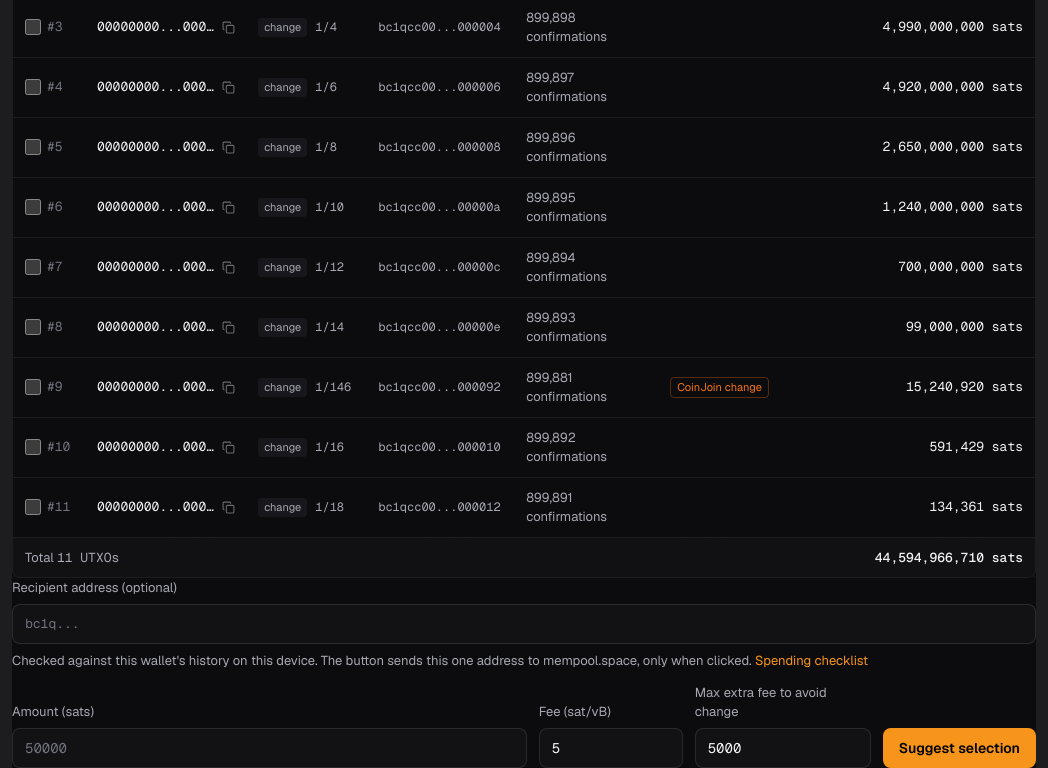
coin control URL state › drops the selection when another wallet is loaded
The width and height of the screenshot is (1048, 768).
(page scrolled)
Click the checkbox labelled "#10": (33, 447) left=25, top=439, right=41, bottom=455
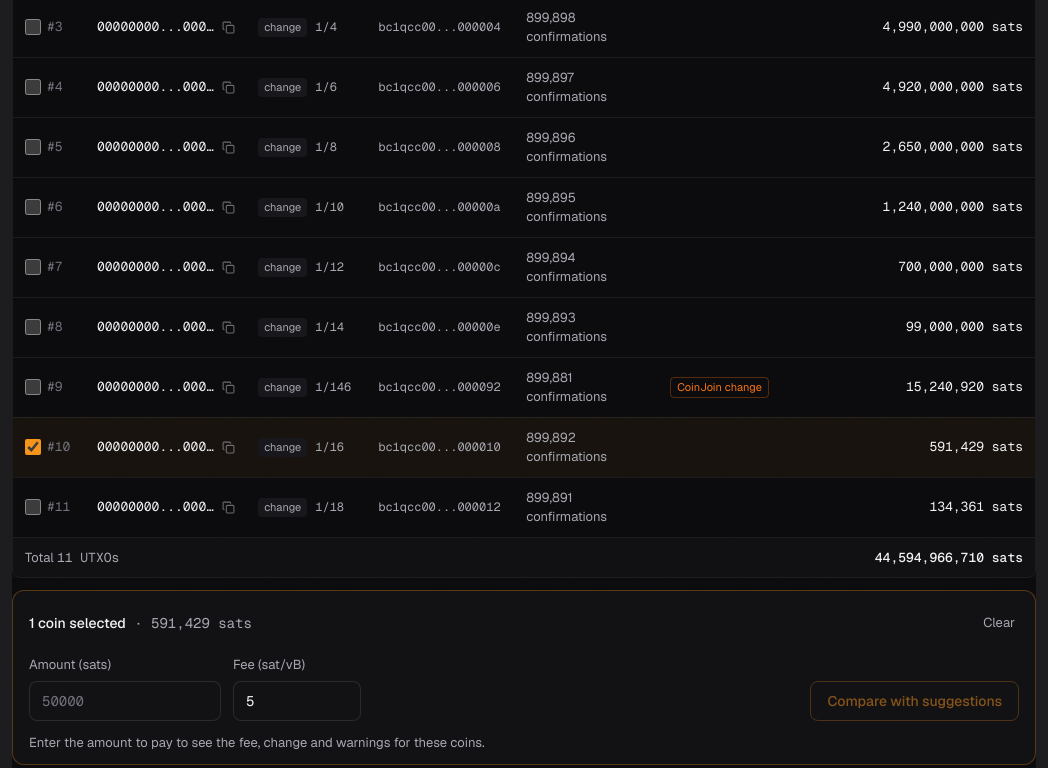
Now the element with test id "coin-control-bar" is shown, box left=12, top=590, right=1036, bottom=765
